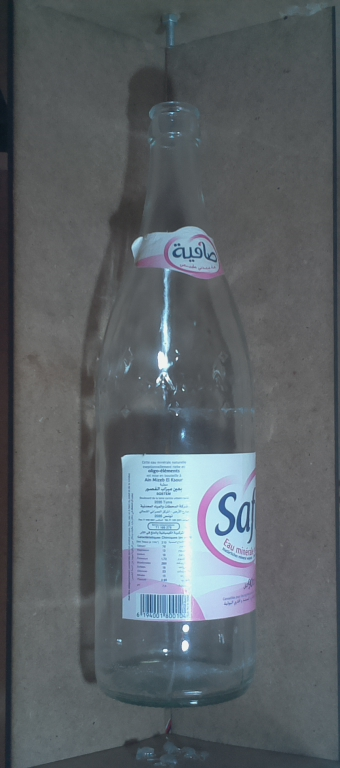Glass: (78, 91, 271, 715)
